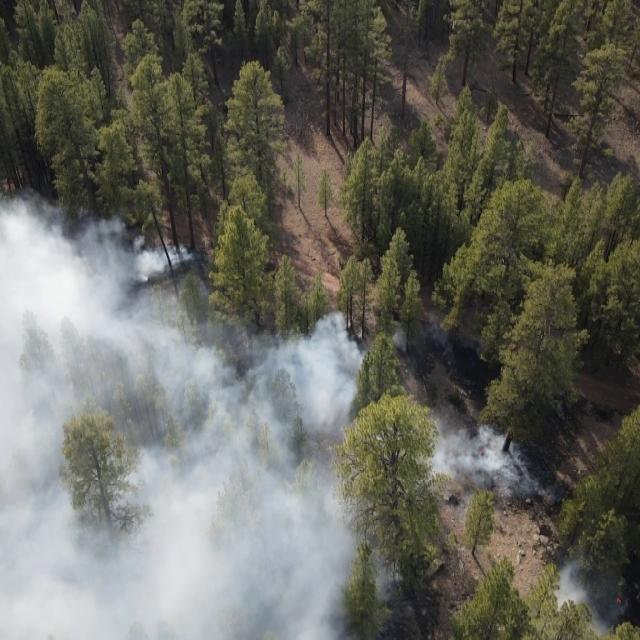fire: (614, 596, 623, 608)
smoke: (0, 241, 210, 640), (210, 310, 364, 640), (426, 421, 550, 497), (0, 190, 147, 240), (554, 555, 626, 637), (365, 527, 409, 607), (392, 316, 450, 360)
